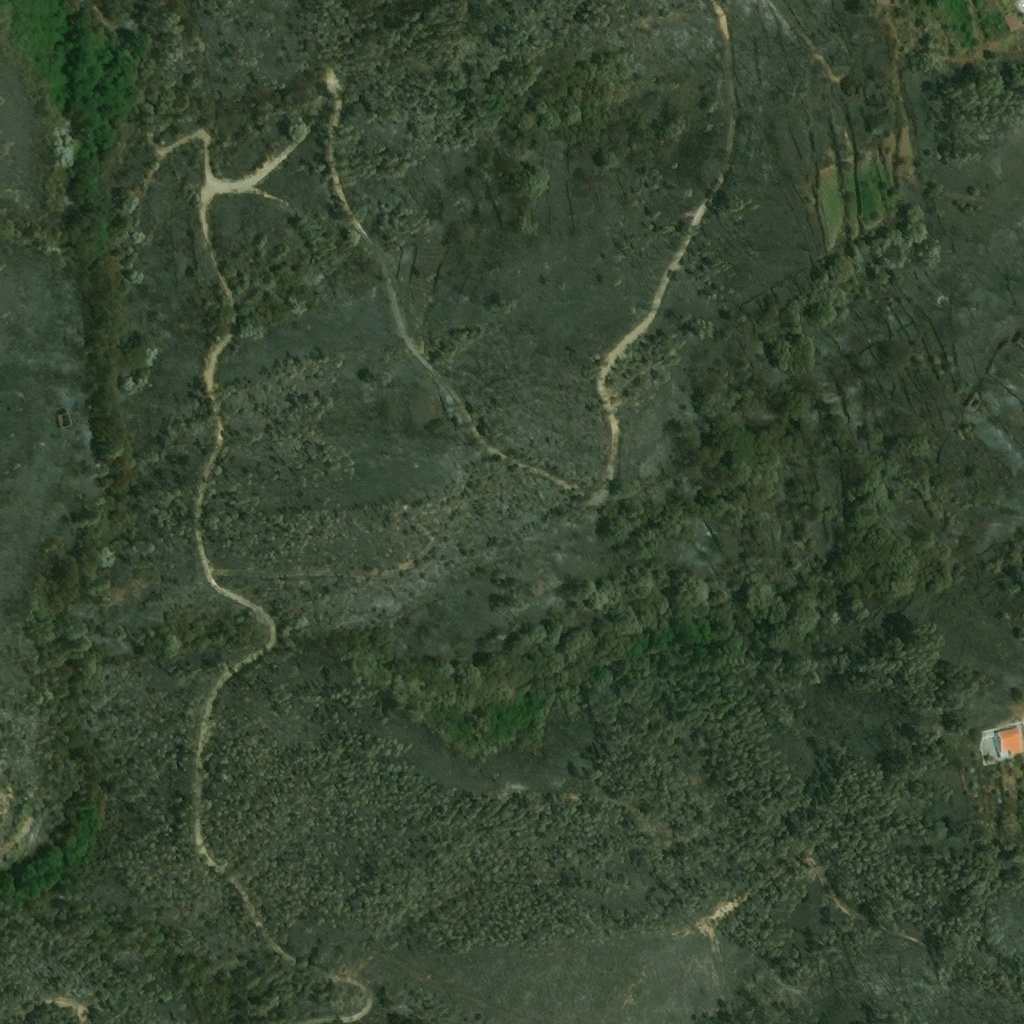0 no-damage: (995, 728, 1023, 759), (1004, 11, 1023, 31)
